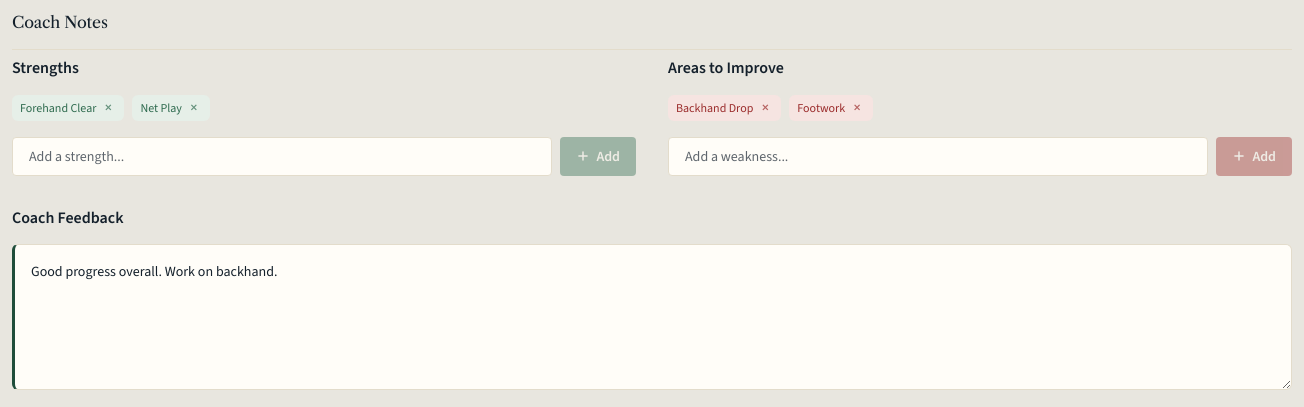
Scenario: TrainingTab › HEAD_COACH role - editable › adds a new weakness tag
In the field named "New weakness": (938, 156) [668,137,1208,176], type "Stamina"
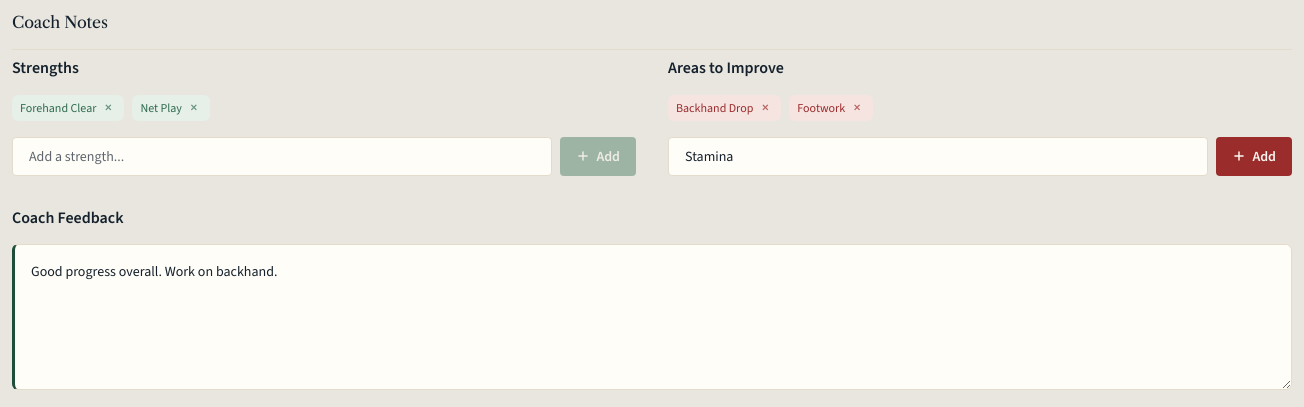
Click the 2nd button "Add": (1254, 156) [1216,137,1292,176]
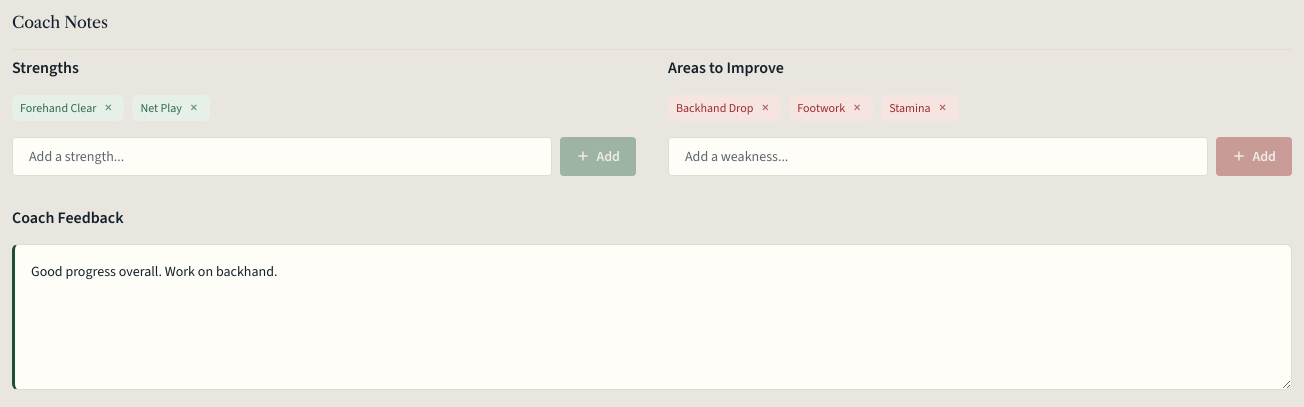
Expected: the text "Stamina" is shown, [889,100,931,116]
